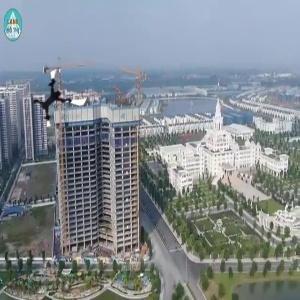drone: (30, 70, 84, 124)
